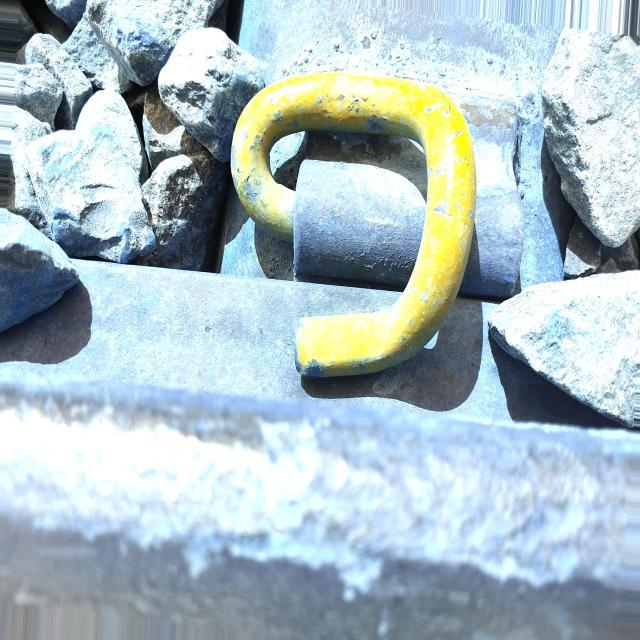Good Fasteners: (231, 72, 564, 376)
